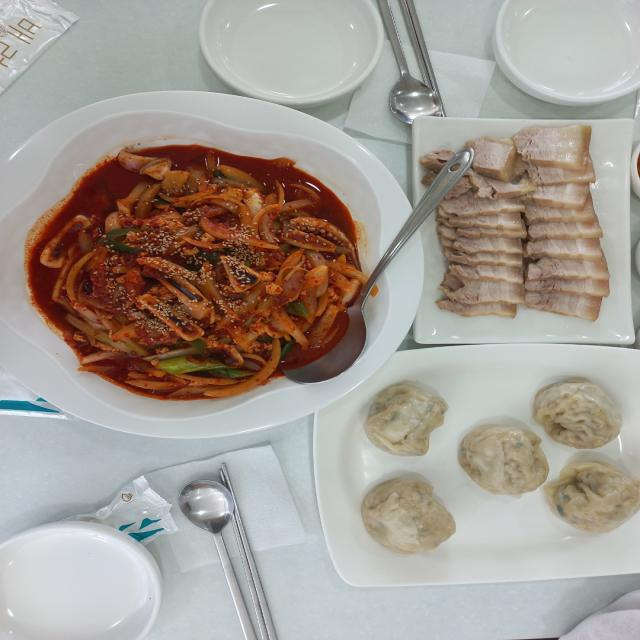Bowl: (0, 90, 425, 440), (197, 0, 384, 108), (0, 519, 162, 639), (492, 0, 640, 107)
Plate: (312, 342, 640, 588), (411, 115, 635, 345)
